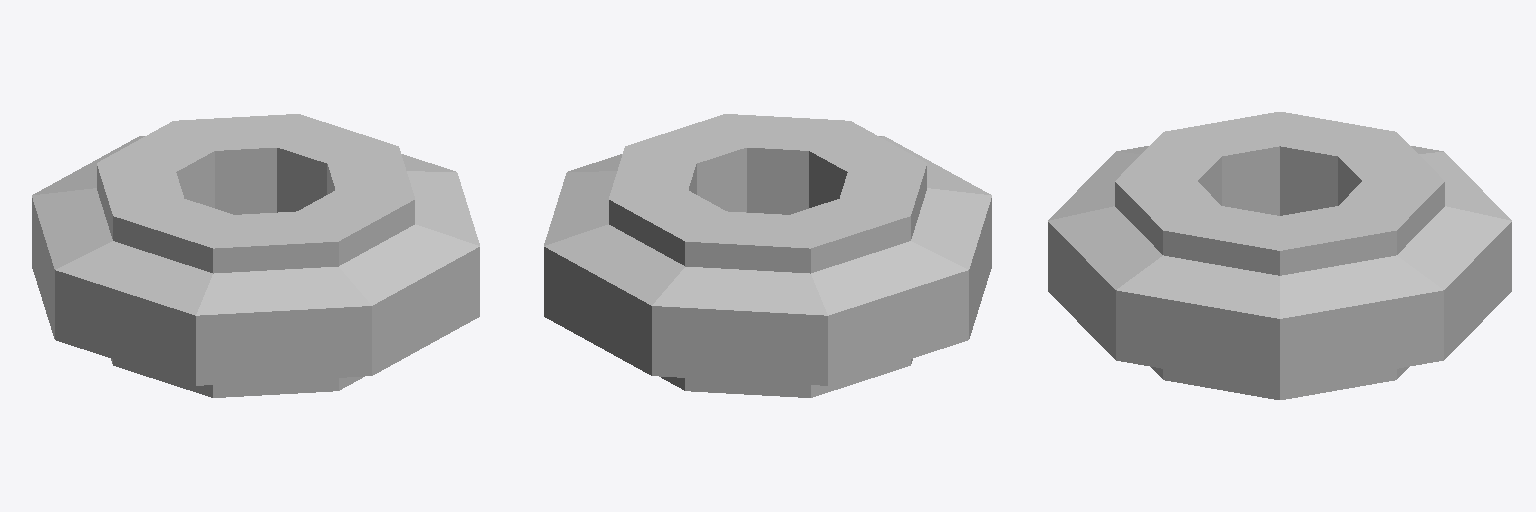
Rendered from lampara_phineas.obj.
3 renders of one model, left to right at view 1: azimuth 30°, elevation 25°; view 2: azimuth 150°, elevation 25°; view 3: azimuth 270°, elevation 25°, orthographic.
Parts seen in each view (by area): view 1: pPipe1; view 2: pPipe1; view 3: pPipe1.
Part boxes in pixels (x1,y1,x2,y2): pPipe1: (32, 114, 479, 397); pPipe1: (544, 114, 991, 397); pPipe1: (1048, 112, 1511, 399).
Bounding box in the file's own units: 0.7824 × 0.278 × 0.7824.